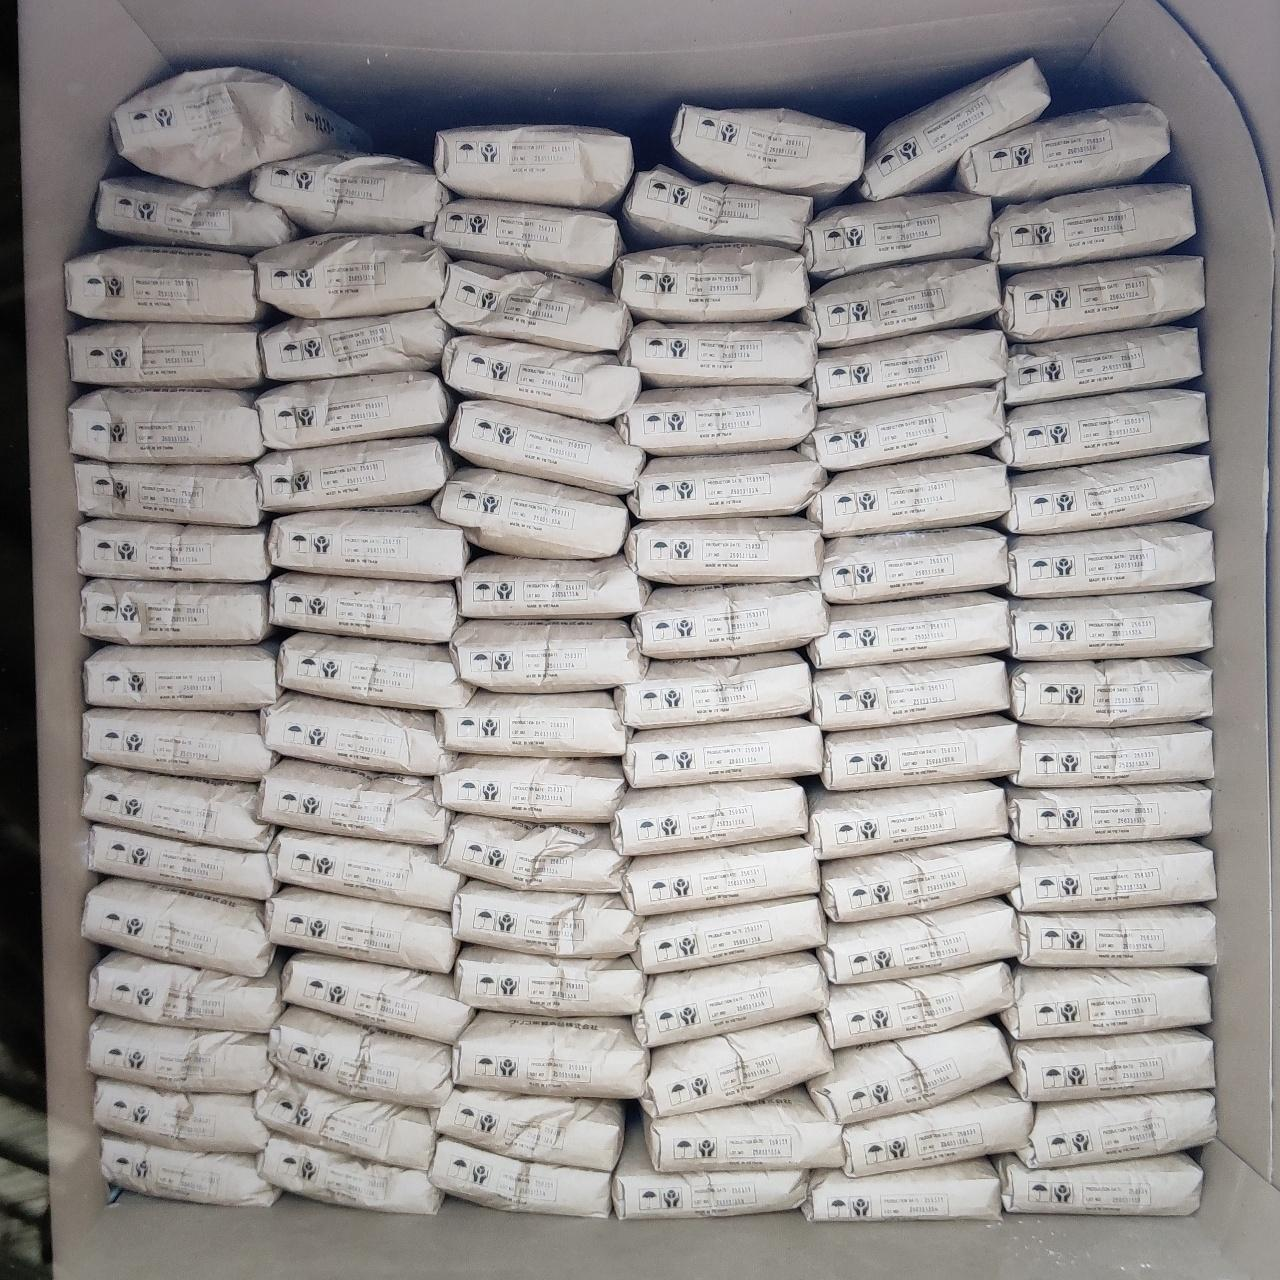sack: (114, 68, 354, 182), (856, 60, 1046, 198), (810, 1020, 1008, 1122), (956, 104, 1166, 198), (642, 1018, 830, 1116), (84, 880, 272, 974), (270, 1008, 450, 1106), (998, 256, 1202, 342), (452, 400, 642, 492), (672, 106, 862, 198), (988, 186, 1194, 270), (636, 954, 824, 1046), (434, 468, 628, 556), (438, 262, 630, 350), (802, 260, 998, 346), (1002, 454, 1212, 534), (996, 390, 1206, 470), (844, 1084, 1030, 1174), (256, 1072, 434, 1166), (616, 1130, 806, 1218), (802, 388, 1002, 470), (284, 952, 470, 1040), (444, 336, 638, 420), (820, 962, 1012, 1046), (820, 900, 1016, 982), (256, 234, 446, 318), (454, 1012, 646, 1094), (810, 454, 1006, 534), (804, 194, 990, 278), (820, 838, 1014, 918), (436, 126, 630, 206), (644, 1088, 838, 1168), (1000, 328, 1198, 406), (96, 174, 294, 252), (260, 760, 448, 842), (272, 828, 460, 910), (1006, 522, 1212, 596), (262, 694, 452, 774), (266, 888, 456, 968), (622, 166, 812, 246), (808, 782, 1006, 858), (90, 952, 282, 1030), (428, 198, 620, 276), (810, 330, 1006, 406), (84, 766, 270, 846), (1002, 966, 1208, 1038), (432, 1088, 622, 1166), (252, 154, 446, 230), (624, 838, 816, 914), (66, 246, 268, 318), (612, 780, 806, 854), (258, 1136, 442, 1214), (634, 896, 822, 972), (270, 506, 468, 578), (808, 594, 1006, 666), (70, 388, 262, 462), (258, 372, 450, 446), (1022, 1092, 1214, 1166), (428, 1136, 610, 1214), (1010, 1030, 1212, 1100), (452, 880, 638, 956), (618, 652, 808, 726), (280, 634, 470, 708), (82, 708, 276, 780), (258, 438, 452, 510), (88, 826, 276, 900), (1010, 842, 1214, 910), (90, 1016, 272, 1092), (822, 716, 1014, 788), (614, 246, 806, 318), (440, 816, 626, 890), (1010, 658, 1210, 726), (452, 620, 644, 690), (262, 308, 448, 380), (634, 584, 824, 654), (1010, 592, 1210, 658), (626, 718, 820, 786), (812, 658, 1006, 726), (628, 450, 822, 518), (102, 1132, 278, 1206), (820, 528, 1006, 598), (454, 946, 644, 1014), (270, 572, 458, 640), (626, 518, 822, 582), (618, 388, 814, 452), (86, 644, 278, 708), (438, 692, 630, 756), (70, 324, 262, 388), (1010, 724, 1212, 784), (998, 1154, 1200, 1214), (82, 580, 270, 644), (804, 1158, 998, 1220), (622, 322, 814, 384), (76, 460, 262, 524), (436, 756, 622, 820), (96, 1080, 266, 1150), (458, 554, 648, 616), (1008, 784, 1210, 842), (78, 520, 270, 580), (1016, 906, 1214, 964)
